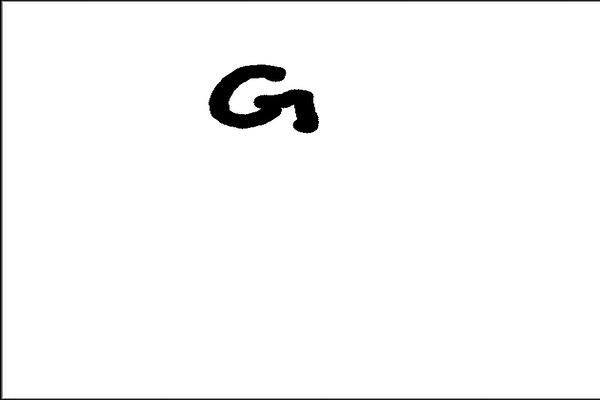G: (201, 62, 326, 137)
